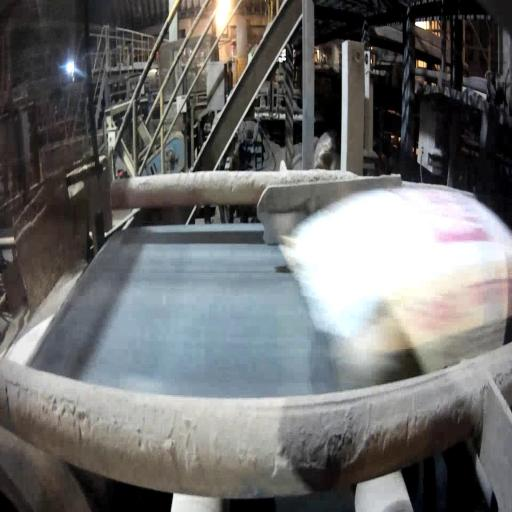c-belt-sack-count: (281, 185, 512, 384)
